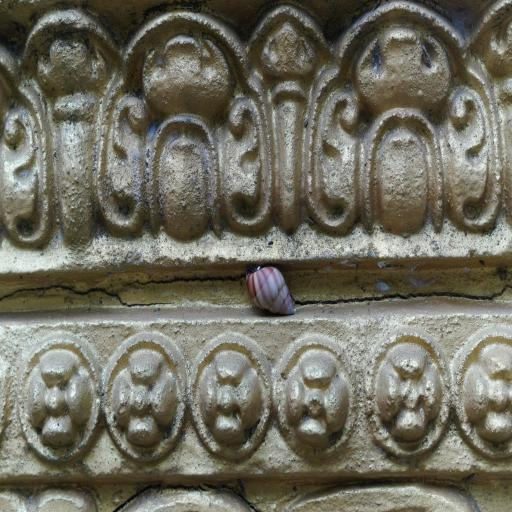hoa: (356, 340, 463, 458), (11, 322, 98, 463), (96, 331, 188, 458), (190, 331, 274, 459), (274, 334, 360, 458), (450, 328, 512, 458)
la: (302, 8, 511, 253), (83, 5, 281, 239), (4, 13, 134, 239)
